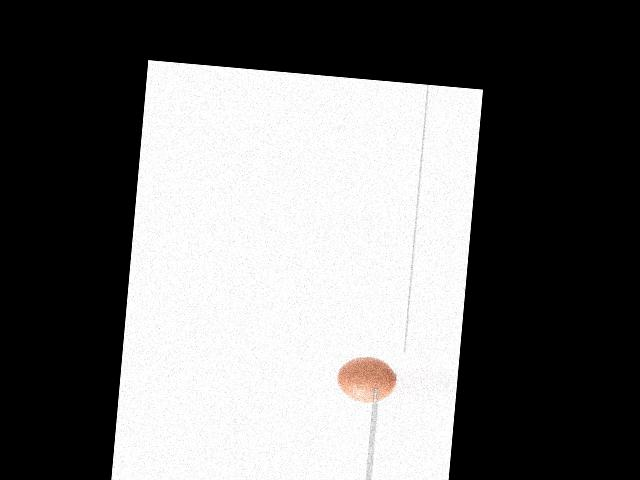egg: (335, 354, 396, 405)
